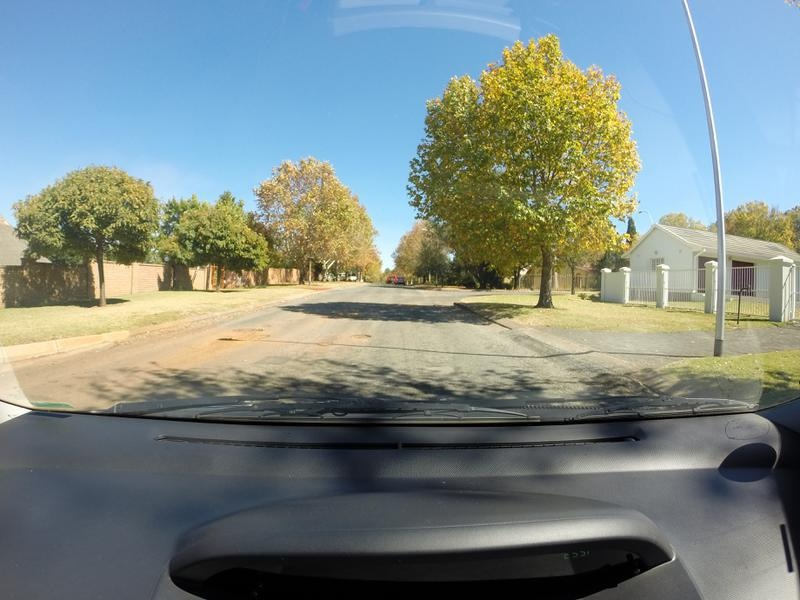pothole: (202, 319, 259, 354), (337, 329, 376, 346)
